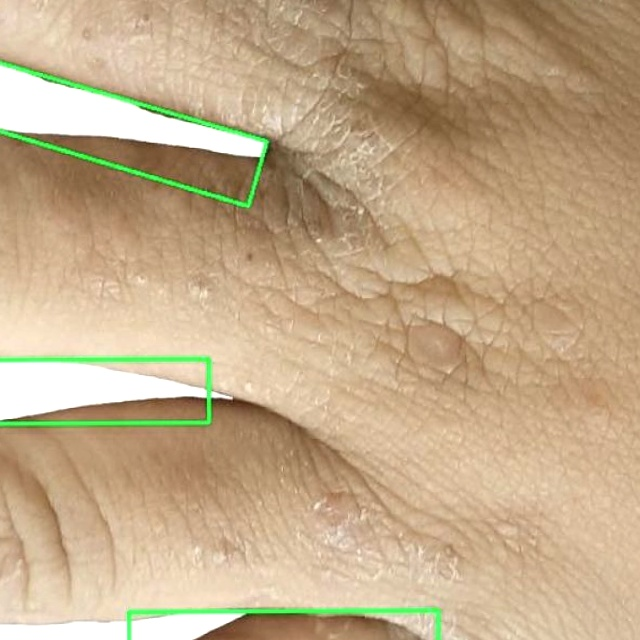Scabies: (0, 56, 269, 205), (0, 357, 210, 422)
